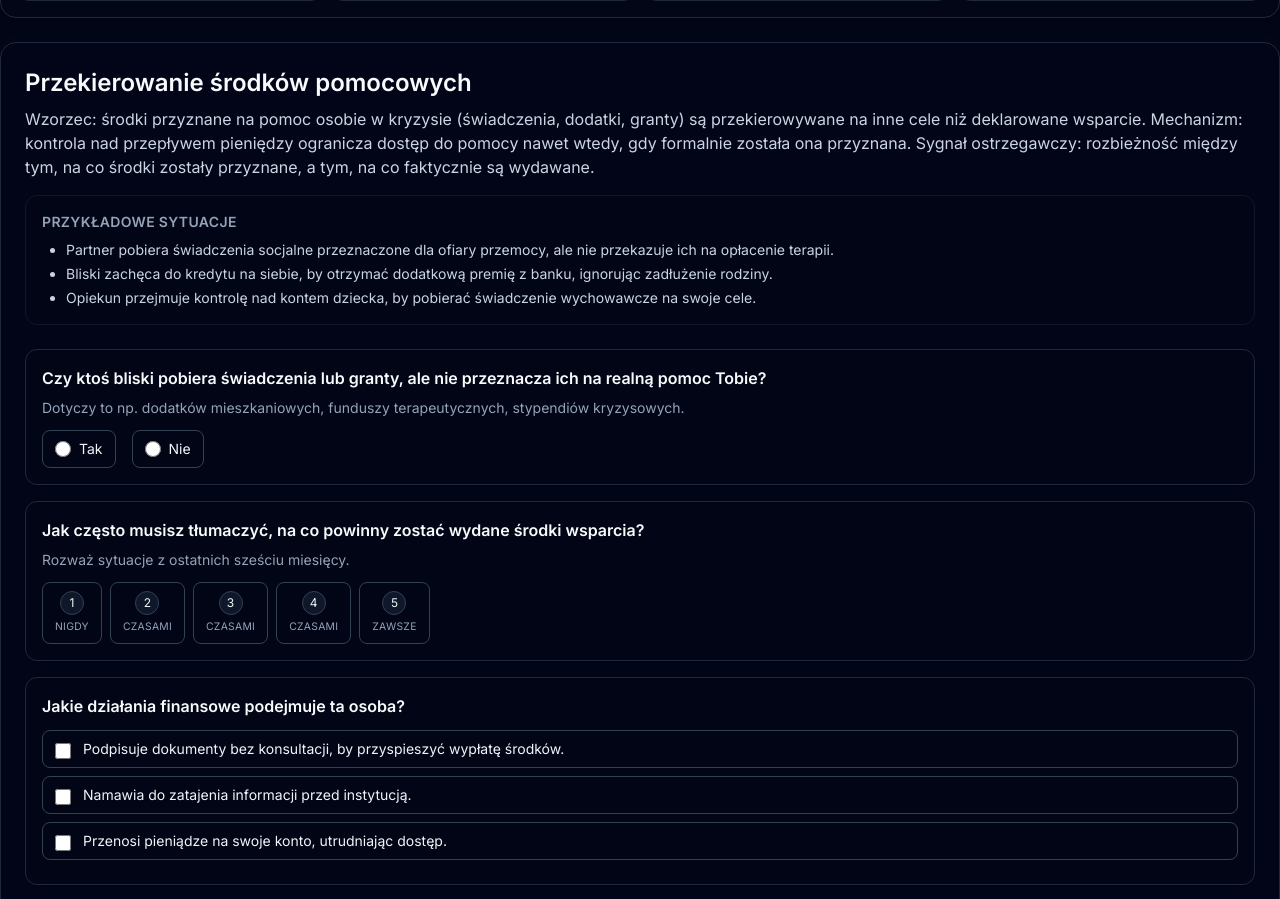
Test: EightSinsPage › updates score after answering a question
This screenshot has width=1280, height=899.
(page scrolled)
Expected: the text "Czy ktoś bliski pobiera świadczenia lub granty, ale nie przeznacza ich na realną pomoc Tobie?" is shown, [42,368,766,388]
Click the radio button labelled "Tak": (63,449) [55,441,71,457]
(page scrolled)
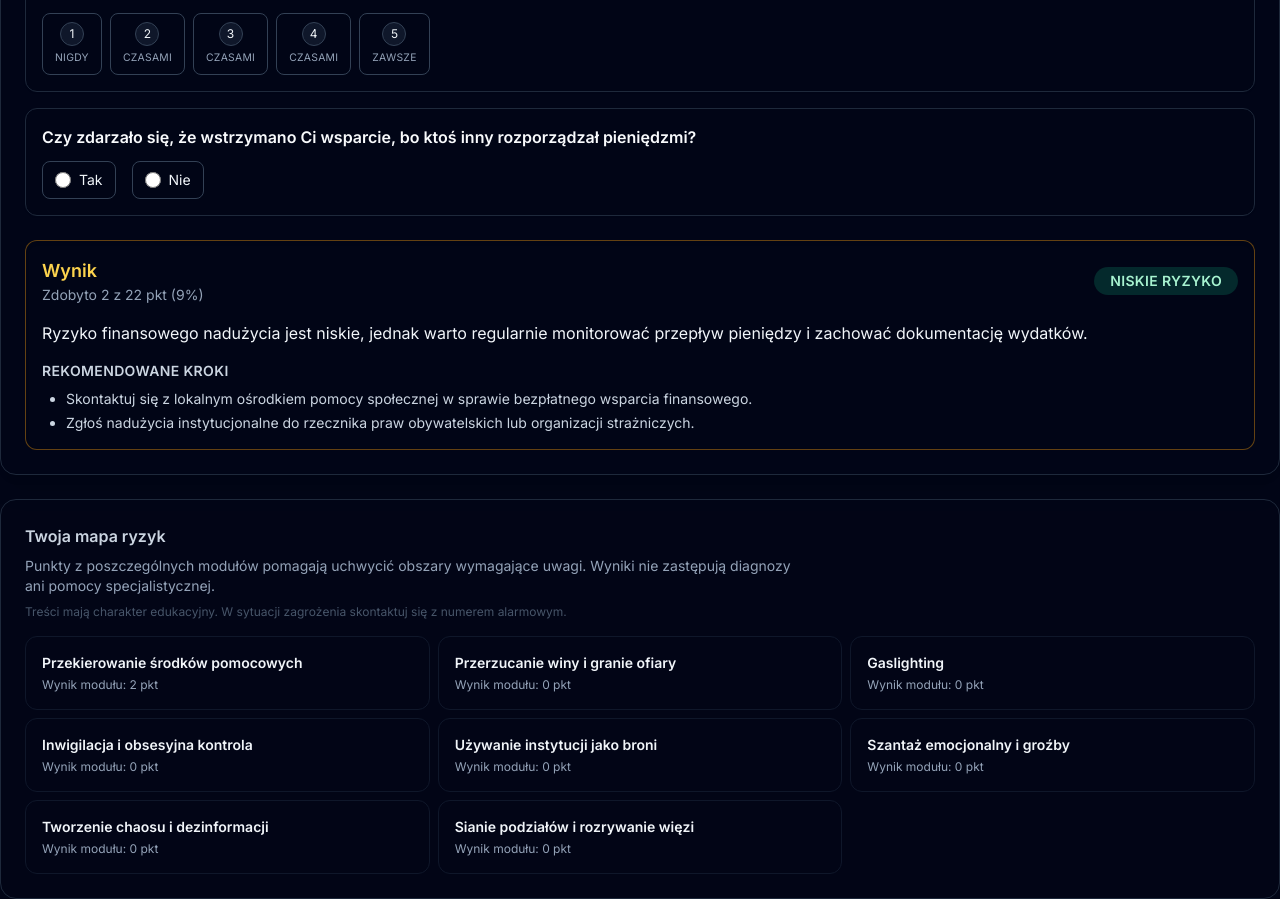
Expected: the text "Wynik modułu: 2 pkt" is shown, [42,677,158,692]
